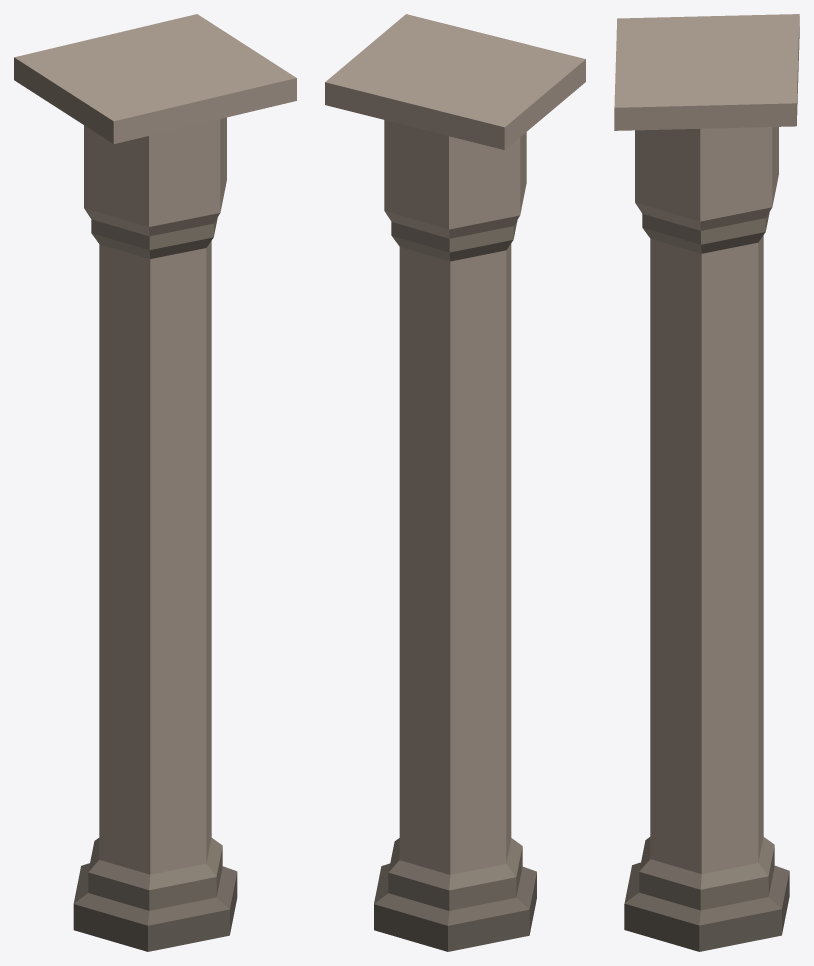
Rendered from SM_Bld_Ruins_04.fbx.
The picture shows the model from 3 angles, left to right: view 1: azimuth 30°, elevation 25°; view 2: azimuth 150°, elevation 25°; view 3: azimuth 270°, elevation 25°; orthographic projection.
Parts seen in each view (by area): view 1: SM_Bld_Ruins_04; view 2: SM_Bld_Ruins_04; view 3: SM_Bld_Ruins_04.
Part boxes in pixels (bbox=[...]): SM_Bld_Ruins_04: bbox=[14, 14, 296, 951]; SM_Bld_Ruins_04: bbox=[325, 14, 585, 951]; SM_Bld_Ruins_04: bbox=[614, 14, 799, 951].
Bounding box in the file's own units: 157 × 665 × 131.
